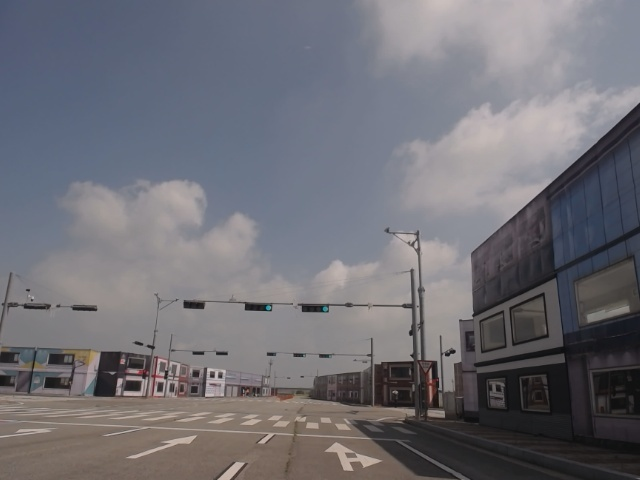straight_green_4: (242, 302, 272, 312), (300, 305, 330, 313)
